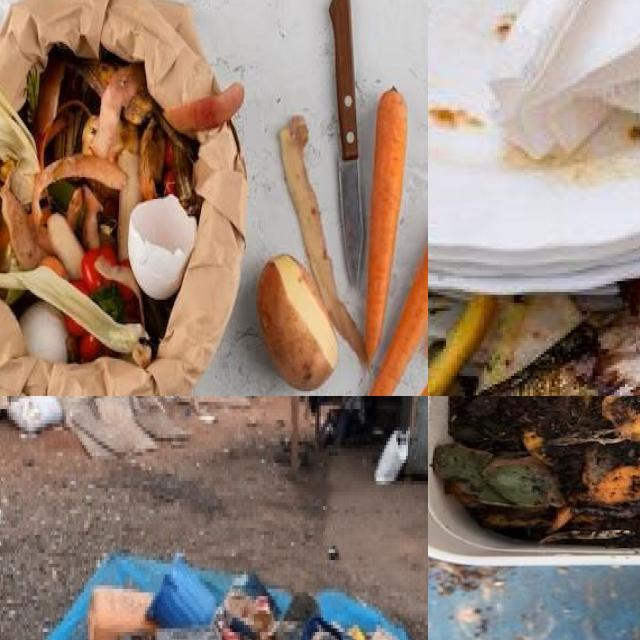Garbage: (428, 0, 640, 396), (0, 42, 240, 370), (434, 396, 640, 545), (69, 555, 367, 640)
Plastic: (147, 555, 216, 627), (301, 615, 345, 640)
contaminated_waste: (428, 0, 640, 293)
